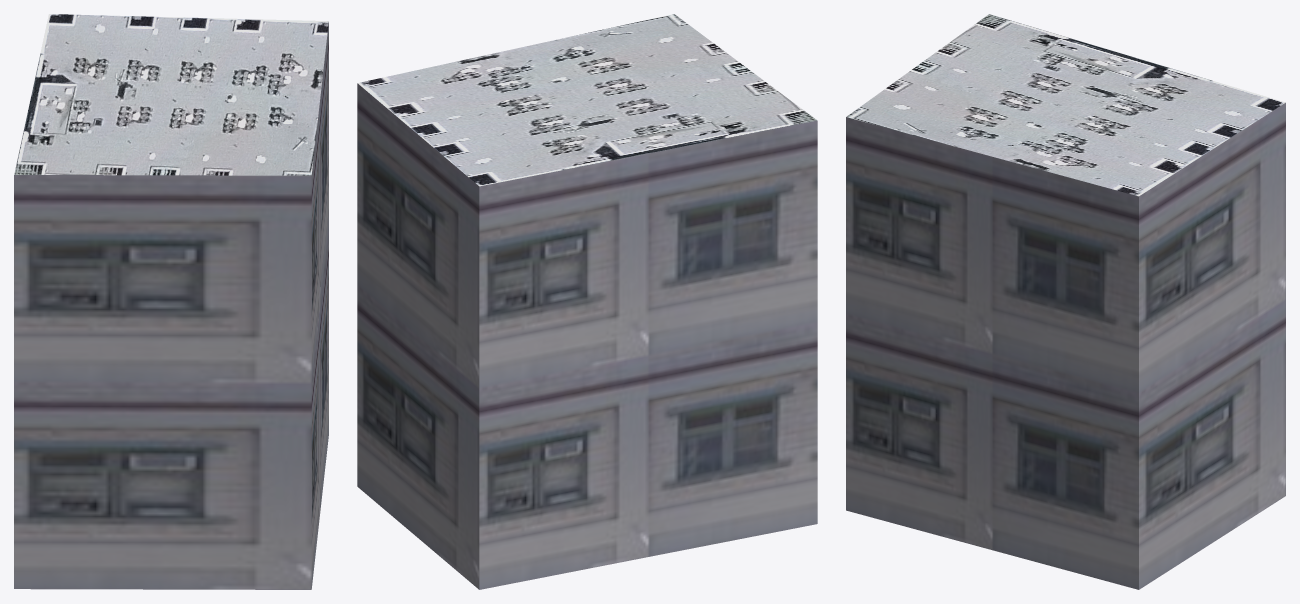
Rendered from ResTex__5201.fbx.
3 views of the same model, side by side, from view 1: azimuth 30°, elevation 25°; view 2: azimuth 150°, elevation 25°; view 3: azimuth 270°, elevation 25° (orthographic). The views are drawn at different scales.
Visible parts, largest first — view 1: CityEngineMaterial_1_m, CityEngineMaterial_m; view 2: CityEngineMaterial_1_m, CityEngineMaterial_m; view 3: CityEngineMaterial_1_m, CityEngineMaterial_m.
Boxes of the visible parts, x1,y1,x2,y2 form: CityEngineMaterial_1_m: (14,22,328,589); CityEngineMaterial_m: (14,14,328,175); CityEngineMaterial_1_m: (357,83,817,589); CityEngineMaterial_m: (357,14,817,186); CityEngineMaterial_1_m: (846,102,1285,589); CityEngineMaterial_m: (846,14,1285,196).
Size of the model in its own units: 5.97 by 6 by 6.08.
Materials: 2 (2 with a texture image).
